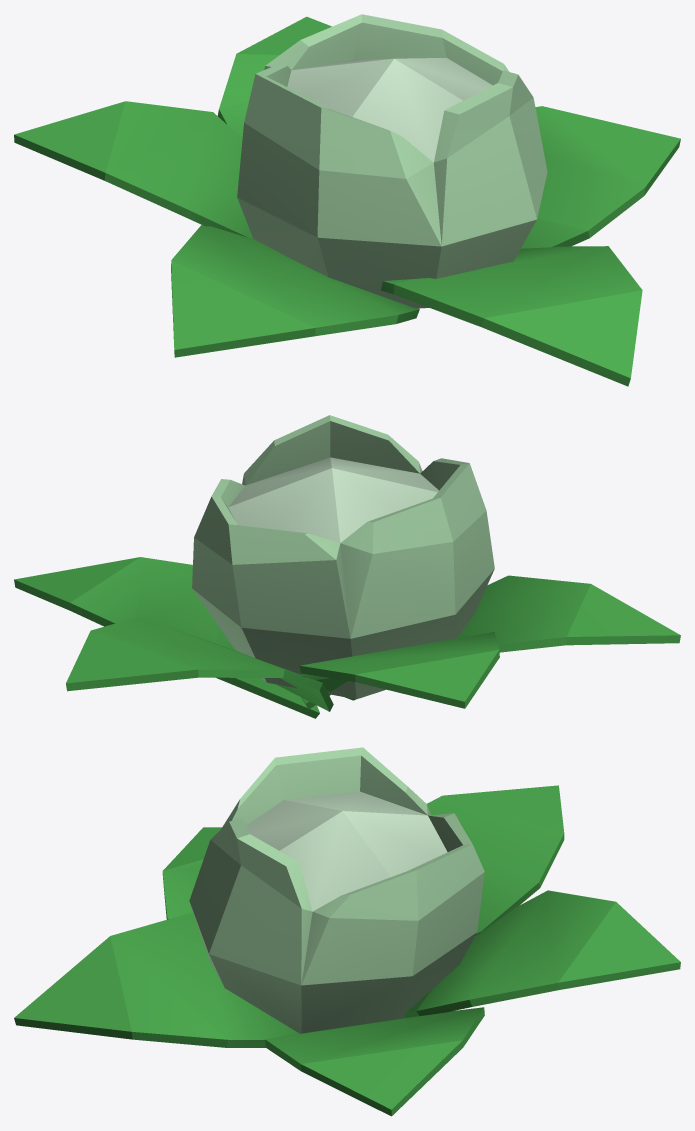
The model's file is plant_004.glb.
The picture shows the model from 3 angles, top to bottom: view 1: azimuth 30°, elevation 25°; view 2: azimuth 150°, elevation 25°; view 3: azimuth 270°, elevation 25°; orthographic projection. The views are drawn at different scales.
Parts seen in each view (by area): view 1: plant_004; view 2: plant_004; view 3: plant_004.
Part boxes in pixels (x1,y1,x2,y2): plant_004: (14, 14, 680, 386); plant_004: (14, 415, 680, 718); plant_004: (14, 747, 680, 1116).
Size of the model in its own units: 1.12 by 0.4695 by 1.17.
Materials: 1 (1 with a texture image).
